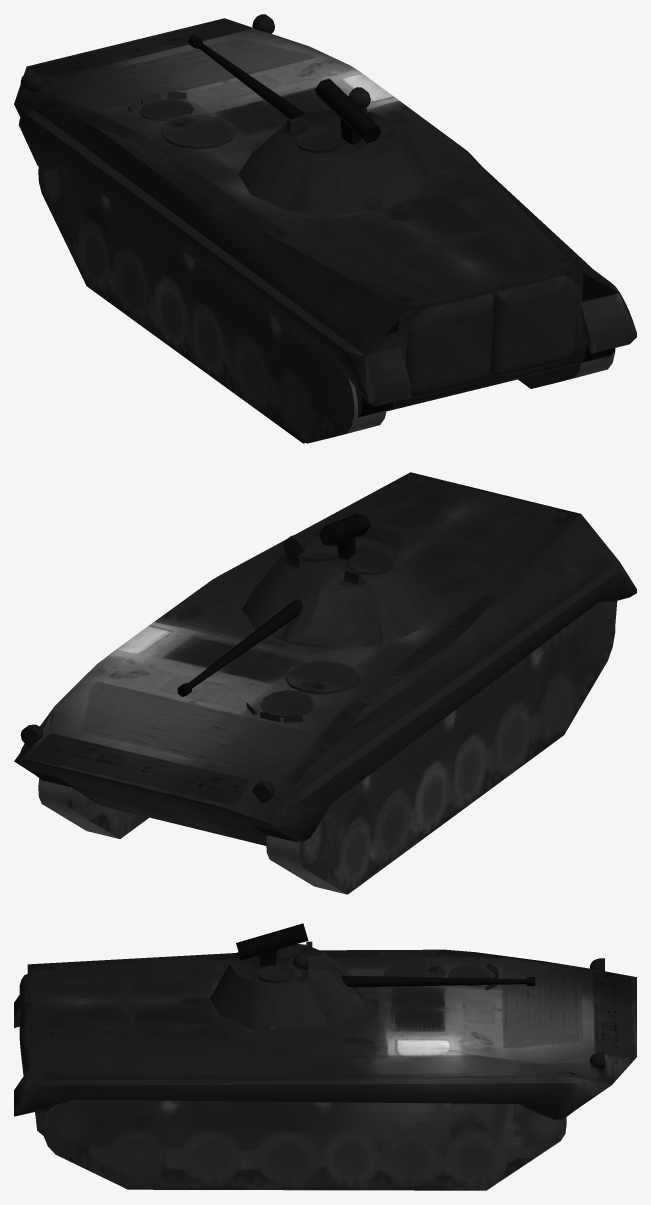
File: BMP-2.glb
3 views of the same model, one above another, from view 1: azimuth 30°, elevation 25°; view 2: azimuth 150°, elevation 25°; view 3: azimuth 270°, elevation 25° (orthographic). The views are drawn at different scales.
Parts seen in each view (by area): view 1: hull_1, hull_19, lft_cleat_14, turret_7, aft_door_3, hull_12, aft_door_2, aft_door_01, turret_8, commander_coupola_9, agtm_3, barrel_8 (+4 smaller); view 2: hull_1, hull_19, lft_cleat_14, turret_7, hull_12, commander_coupola_9, rgt_cleat, barrel_8, turret_8, rgt_cleat_4, driver_coupola_10, agtm_3 (+4 smaller); view 3: hull_1, rgt_cleat_10, hull_19, turret_7, hull_12, barrel_8, agtm_3, turret_8, commander_coupola_9, driver_coupola_31, driver_coupola_10, aft_door_3.
Part boxes in pixels (box(x1,y1,x2,y2)): hull_1: box(14, 18, 636, 406); hull_19: box(119, 75, 619, 417); lft_cleat_14: box(38, 167, 354, 443); turret_7: box(238, 110, 430, 215); aft_door_3: box(490, 275, 579, 376); hull_12: box(14, 22, 611, 416); aft_door_2: box(405, 293, 493, 397); aft_door_01: box(408, 293, 494, 389); turret_8: box(279, 112, 402, 157); commander_coupola_9: box(161, 115, 235, 149); agtm_3: box(315, 78, 381, 143); barrel_8: box(188, 34, 305, 119); hull_1: box(20, 472, 636, 842); hull_19: box(15, 472, 619, 837); lft_cleat_14: box(299, 601, 615, 894); turret_7: box(242, 537, 433, 649); hull_12: box(14, 597, 630, 845); commander_coupola_9: box(285, 660, 359, 694); rgt_cleat: box(43, 782, 149, 838); barrel_8: box(177, 598, 302, 696); turret_8: box(280, 539, 403, 584); rgt_cleat_4: box(38, 778, 114, 837); driver_coupola_10: box(260, 690, 313, 717); agtm_3: box(319, 513, 370, 546); hull_1: box(14, 949, 636, 1119); rgt_cleat_10: box(43, 1099, 566, 1190); hull_19: box(27, 949, 615, 1135); turret_7: box(210, 944, 368, 1032); hull_12: box(14, 953, 636, 1097); barrel_8: box(341, 975, 535, 987); agtm_3: box(236, 923, 308, 960); turret_8: box(230, 945, 332, 982); commander_coupola_9: box(384, 959, 445, 987); driver_coupola_31: box(257, 965, 294, 983); driver_coupola_10: box(448, 966, 492, 986); aft_door_3: box(19, 1003, 29, 1075).
Size of the model in its own units: 2.74 by 2.49 by 6.64.
113 materials, 113 textured.
